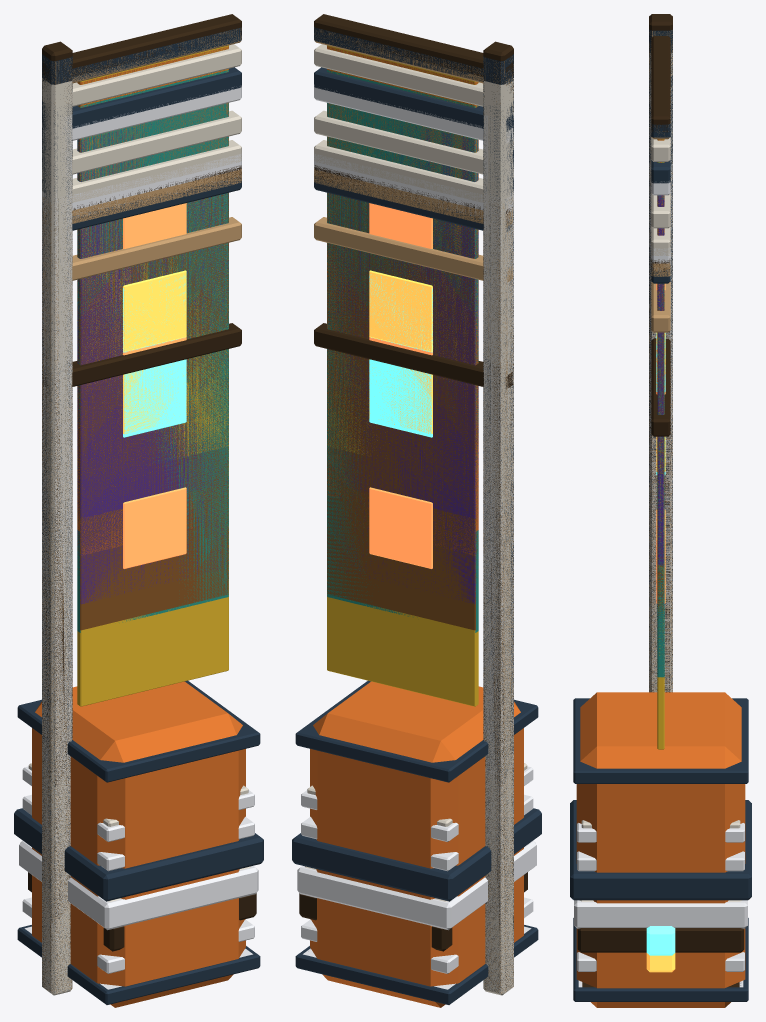
Rendered from flagship_props_004.glb.
3 renders of one model, left to right at view 1: azimuth 30°, elevation 25°; view 2: azimuth 150°, elevation 25°; view 3: azimuth 270°, elevation 25°, orthographic. The views are drawn at different scales.
Parts seen in each view (by area): view 1: Prop_BBIsle_Barrel_01, Prop_BBIsle_Banner_06, Prop_BBIsle_Banner_05, Prop_BBIsle_Banner_07, Prop_BBIsle_Banner_09, Prop_BBIsle_Banner_10, Prop_BBIsle_Banner_12, Prop_BBIsle_Banner_11, Prop_BBIsle_Barrel_00, Prop_BBIsle_Banner_08, Prop_BBIsle_Banner_14, Prop_BBIsle_Banner_19 (+6 smaller); view 2: Prop_BBIsle_Barrel_01, Prop_BBIsle_Banner_06, Prop_BBIsle_Banner_05, Prop_BBIsle_Banner_07, Prop_BBIsle_Banner_09, Prop_BBIsle_Banner_12, Prop_BBIsle_Banner_10, Prop_BBIsle_Banner_08, Prop_BBIsle_Banner_11, Prop_BBIsle_Barrel_00, Prop_BBIsle_Banner_14, Prop_BBIsle_Banner_15 (+6 smaller); view 3: Prop_BBIsle_Barrel_01, Prop_BBIsle_Barrel_00, Prop_BBIsle_Banner_05, Prop_BBIsle_Barrel_02, Prop_BBIsle_Banner_09, Prop_BBIsle_Banner_12, Prop_BBIsle_Banner_10, Prop_BBIsle_Banner_06, Prop_BBIsle_Banner_14, Prop_BBIsle_Banner_08, Prop_BBIsle_Banner_07, Prop_BBIsle_Banner_13 (+3 smaller).
Part boxes in pixels (bbox=[...]): Prop_BBIsle_Barrel_01: bbox=[14, 680, 263, 1007]; Prop_BBIsle_Banner_06: bbox=[42, 169, 241, 993]; Prop_BBIsle_Banner_05: bbox=[42, 44, 241, 995]; Prop_BBIsle_Banner_07: bbox=[42, 164, 241, 993]; Prop_BBIsle_Banner_09: bbox=[42, 323, 241, 991]; Prop_BBIsle_Banner_10: bbox=[42, 140, 241, 992]; Prop_BBIsle_Banner_12: bbox=[42, 85, 241, 991]; Prop_BBIsle_Banner_11: bbox=[42, 217, 241, 973]; Prop_BBIsle_Barrel_00: bbox=[19, 766, 258, 989]; Prop_BBIsle_Banner_08: bbox=[42, 67, 241, 990]; Prop_BBIsle_Banner_14: bbox=[42, 14, 241, 990]; Prop_BBIsle_Banner_19: bbox=[42, 165, 241, 982]; Prop_BBIsle_Barrel_01: bbox=[292, 680, 541, 1007]; Prop_BBIsle_Banner_06: bbox=[314, 168, 513, 993]; Prop_BBIsle_Banner_05: bbox=[314, 44, 513, 995]; Prop_BBIsle_Banner_07: bbox=[314, 164, 513, 993]; Prop_BBIsle_Banner_09: bbox=[314, 323, 513, 991]; Prop_BBIsle_Banner_12: bbox=[314, 84, 513, 978]; Prop_BBIsle_Banner_10: bbox=[314, 140, 513, 992]; Prop_BBIsle_Banner_08: bbox=[314, 67, 513, 990]; Prop_BBIsle_Banner_11: bbox=[314, 217, 513, 991]; Prop_BBIsle_Barrel_00: bbox=[297, 766, 536, 989]; Prop_BBIsle_Banner_14: bbox=[314, 14, 513, 983]; Prop_BBIsle_Banner_15: bbox=[314, 110, 513, 988]; Prop_BBIsle_Barrel_01: bbox=[570, 692, 751, 1007]; Prop_BBIsle_Barrel_00: bbox=[574, 823, 747, 987]; Prop_BBIsle_Banner_05: bbox=[649, 53, 672, 692]; Prop_BBIsle_Barrel_02: bbox=[577, 928, 744, 987]; Prop_BBIsle_Banner_09: bbox=[649, 331, 671, 749]; Prop_BBIsle_Banner_12: bbox=[649, 87, 672, 691]; Prop_BBIsle_Banner_10: bbox=[649, 148, 672, 691]; Prop_BBIsle_Banner_06: bbox=[649, 168, 672, 692]; Prop_BBIsle_Banner_14: bbox=[649, 14, 672, 654]; Prop_BBIsle_Banner_08: bbox=[649, 75, 672, 691]; Prop_BBIsle_Banner_07: bbox=[649, 164, 672, 691]; Prop_BBIsle_Banner_13: bbox=[649, 29, 672, 685].
Bounding box in the file's own units: 0.9 × 4.24 × 0.7554.
